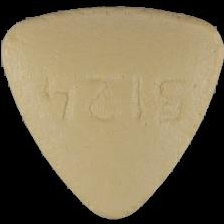54868-5392: (0, 0, 224, 224)
